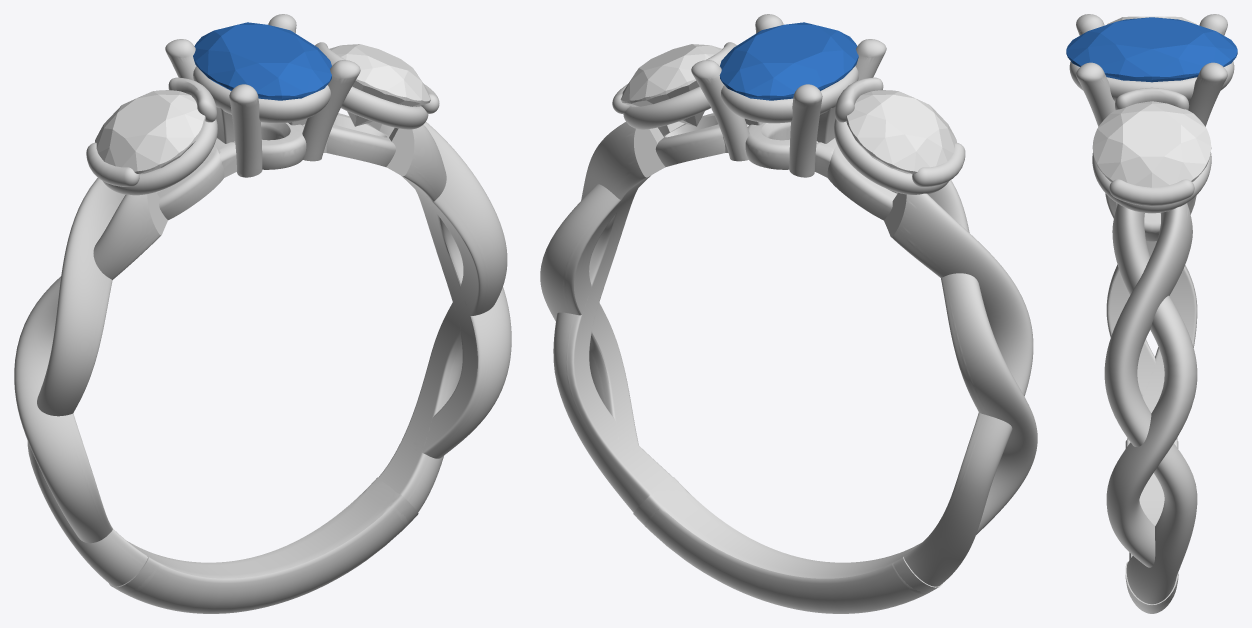
File: ChrisPTengTwist_blender.glb
3 renders of one model, left to right at view 1: azimuth 30°, elevation 25°; view 2: azimuth 150°, elevation 25°; view 3: azimuth 270°, elevation 25°, orthographic.
Parts seen in each view (by area): view 1: Chris PT for 3d model, Chris sapph for 3d model, Chris dia for 3d model.001, Chris dia for 3d model; view 2: Chris PT for 3d model, Chris sapph for 3d model, Chris dia for 3d model.001, Chris dia for 3d model; view 3: Chris PT for 3d model, Chris dia for 3d model, Chris sapph for 3d model.
Part boxes in pixels (x1=…): Chris PT for 3d model: x1=14, y1=14, x2=511, y2=613; Chris sapph for 3d model: x1=193, y1=22, x2=331, y2=100; Chris dia for 3d model.001: x1=95, y1=90, x2=205, y2=173; Chris dia for 3d model: x1=329, y1=44, x2=430, y2=126; Chris PT for 3d model: x1=540, y1=14, x2=1037, y2=613; Chris sapph for 3d model: x1=719, y1=22, x2=858, y2=100; Chris dia for 3d model.001: x1=846, y1=90, x2=956, y2=173; Chris dia for 3d model: x1=620, y1=44, x2=722, y2=126; Chris PT for 3d model: x1=1069, y1=14, x2=1234, y2=613; Chris dia for 3d model: x1=1092, y1=101, x2=1211, y2=187; Chris sapph for 3d model: x1=1066, y1=17, x2=1237, y2=82.
Bounding box in the file's own units: 21.96 × 24.31 × 6.81.
